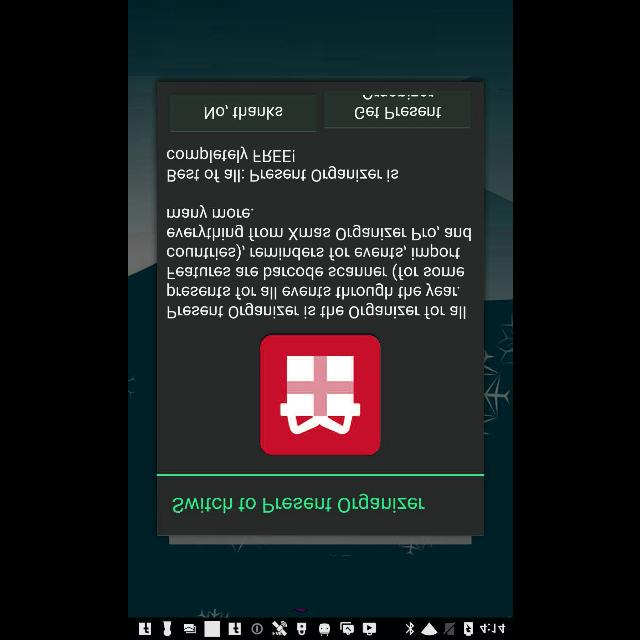image: (258, 333, 380, 455)
panel: (156, 81, 484, 535)
text: (166, 206, 470, 320), (166, 146, 398, 182), (172, 493, 424, 513)
textbutton: (323, 90, 473, 128), (168, 94, 318, 132)
uppertaskbar: (128, 617, 512, 639)
